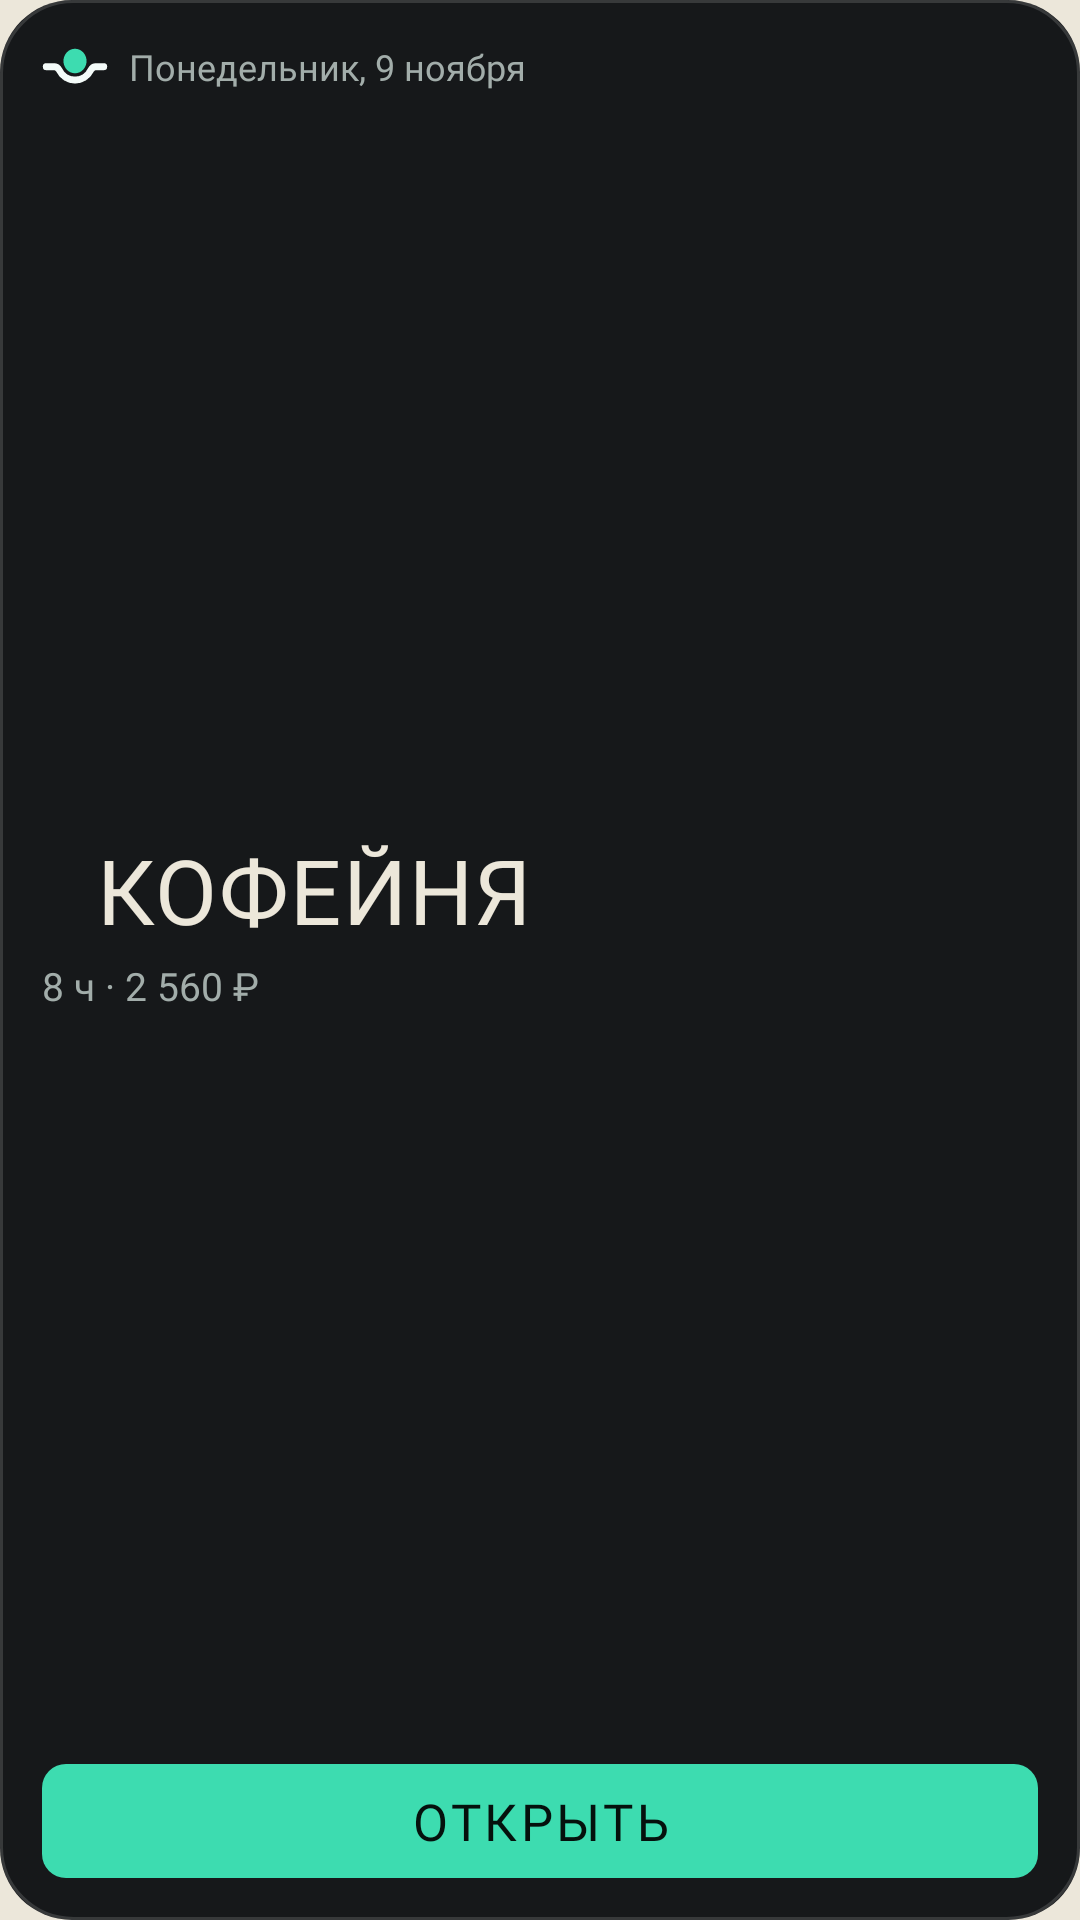

Icon click points for this 1080 x 1920 phone screenshot, format point (x, y):
widget mark: point (75, 66)
